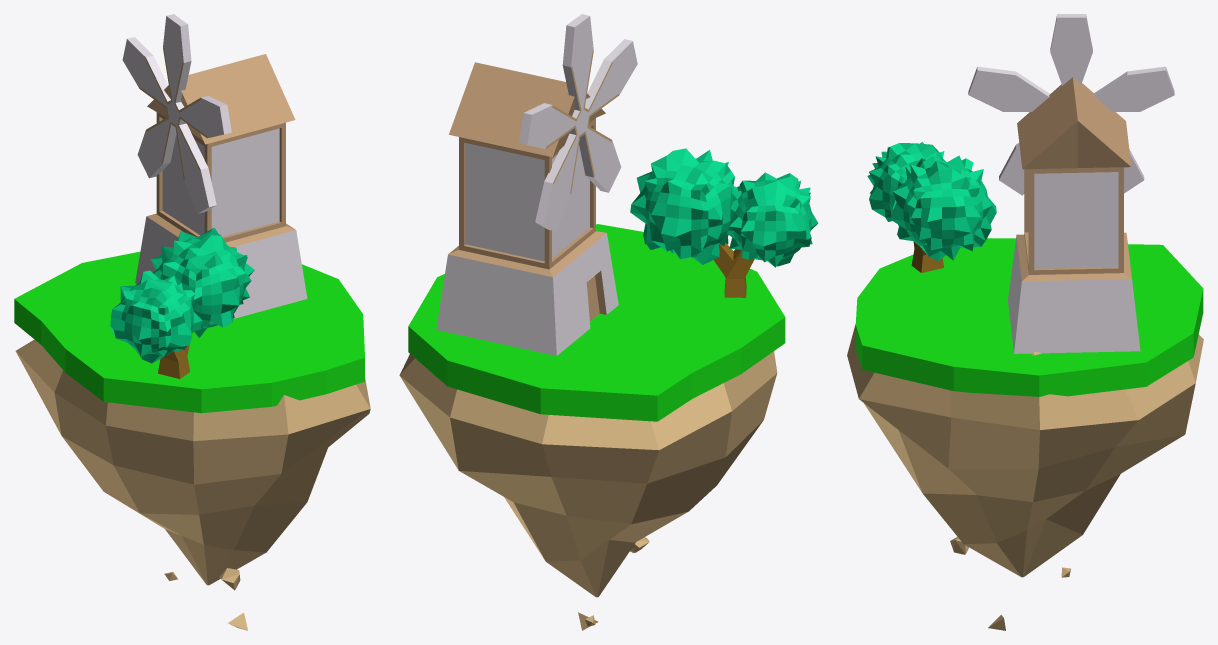
The model's file is mill.glb.
The picture shows the model from 3 angles, left to right: view 1: azimuth 30°, elevation 25°; view 2: azimuth 150°, elevation 25°; view 3: azimuth 270°, elevation 25°; orthographic projection. The views are drawn at different scales.
Visible parts, largest first — view 1: Island, Green_platform, Mill, Tree, propeller; view 2: Island, Green_platform, Mill, Tree, propeller; view 3: Island, Green_platform, Mill, Tree, propeller.
Boxes of the visible parts, box(x1,y1,x2,y2) form: Island: box(15, 339, 370, 630); Green_platform: box(14, 251, 364, 413); Mill: box(135, 54, 307, 318); Tree: box(110, 227, 254, 378); propeller: box(122, 14, 231, 213); Island: box(399, 351, 777, 630); Green_platform: box(408, 224, 785, 421); Mill: box(436, 62, 618, 355); Tree: box(630, 148, 818, 297); propeller: box(519, 14, 637, 231); Island: box(847, 324, 1203, 630); Green_platform: box(855, 238, 1203, 396); Mill: box(1008, 77, 1140, 353); Tree: box(867, 142, 996, 272); propeller: box(968, 14, 1174, 195).
Size of the model in its own units: 1.01 by 1.96 by 1.06.
